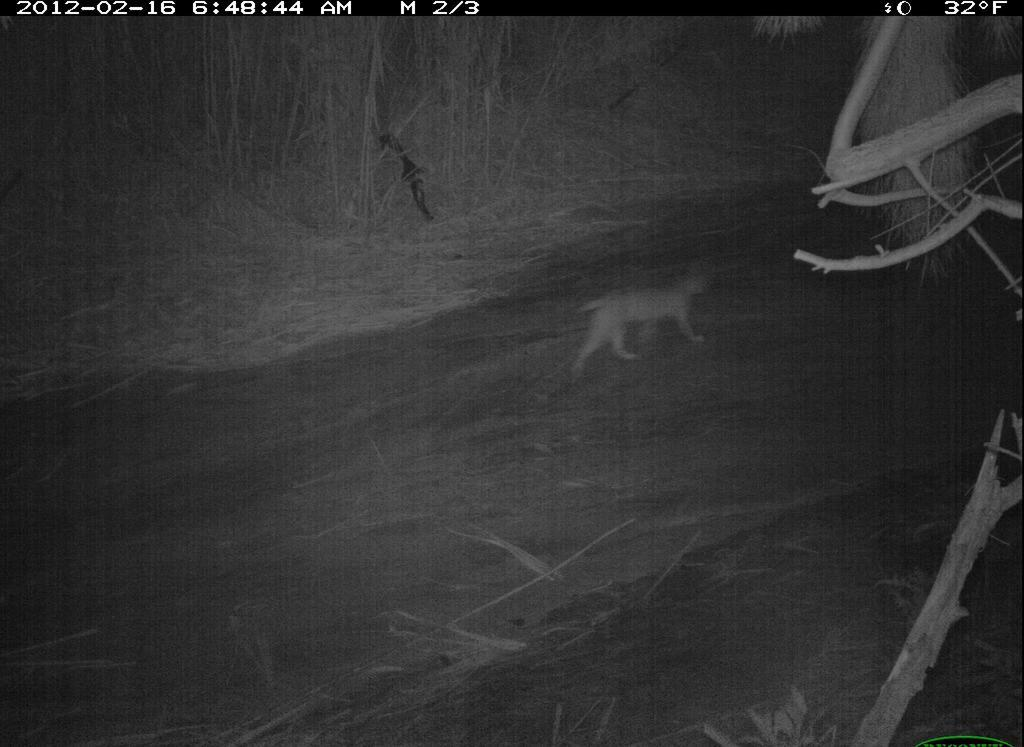bobcat: (566, 263, 716, 369)
